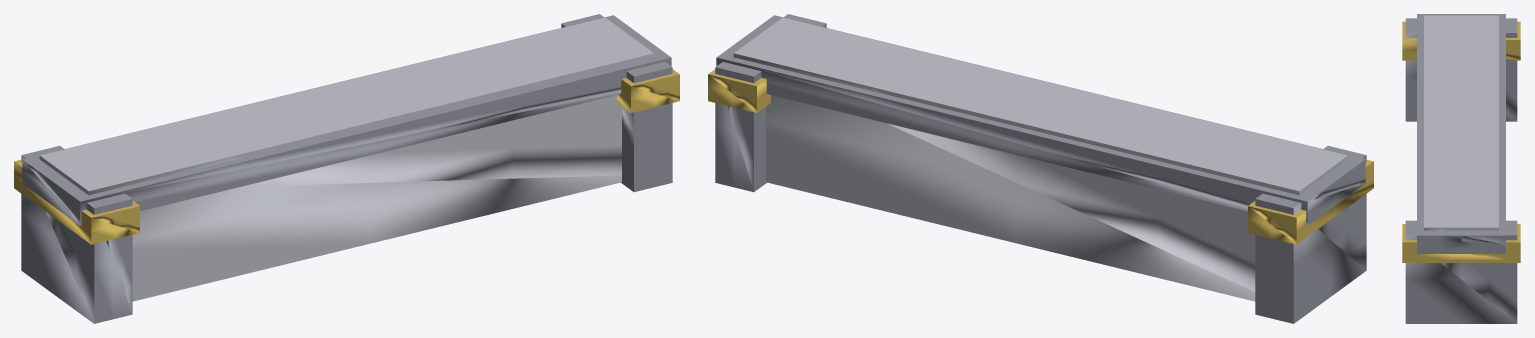
File: platform.glb
3 views of the same model, side by side, from view 1: azimuth 30°, elevation 25°; view 2: azimuth 150°, elevation 25°; view 3: azimuth 270°, elevation 25° (orthographic). The views are drawn at different scales.
Parts seen in each view (by area): view 1: PangPlatformBody; view 2: PangPlatformBody; view 3: PangPlatformBody.
Part boxes in pixels (<box>): PangPlatformBody: <box>14,14,679,323</box>; PangPlatformBody: <box>708,14,1373,323</box>; PangPlatformBody: <box>1402,14,1520,323</box>.
Size of the model in its own units: 4.6 by 0.91 by 1.04.
